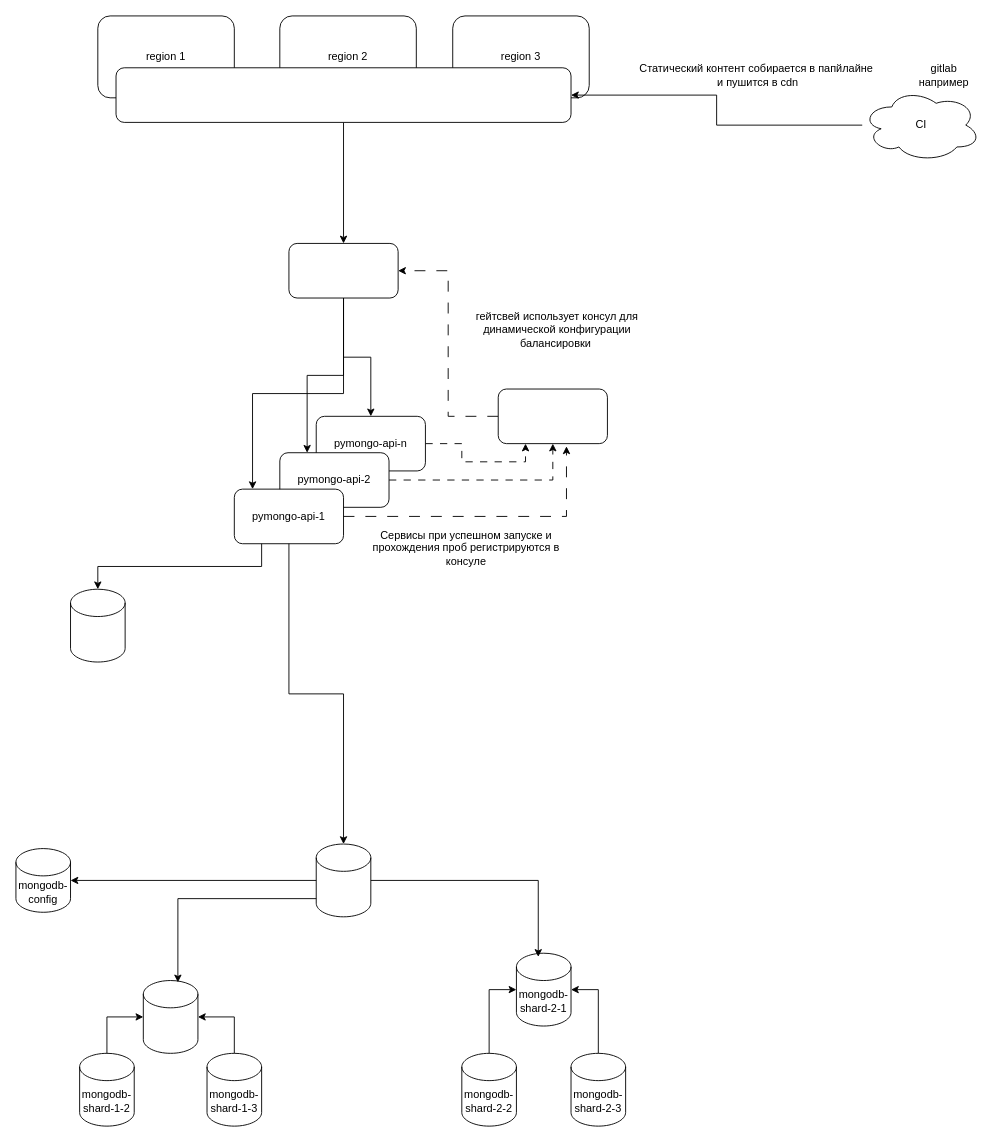
The diagram is 996 pixels wide and 1142 high, and some of its shapes have lost their labels. Each missing label, with the centre of its shape:
"api-gateway" goes at point (343, 270).
"cdn" goes at point (343, 94).
"consul" goes at point (552, 416).
"mongodb-router" goes at point (343, 880).
"mongodb-shard-1-1" goes at point (170, 1016).
"redis-1" goes at point (97, 625).
